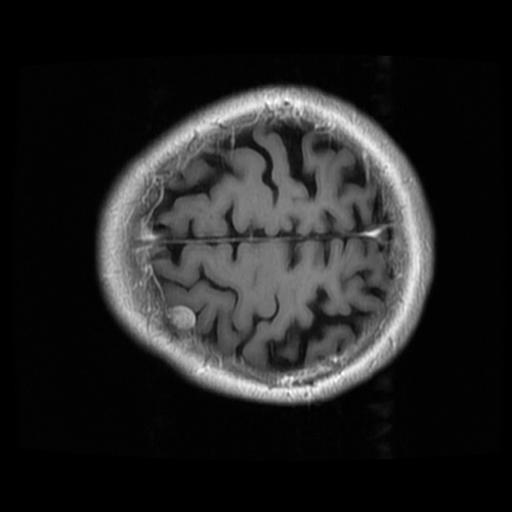meningioma: (165, 304, 195, 330)
